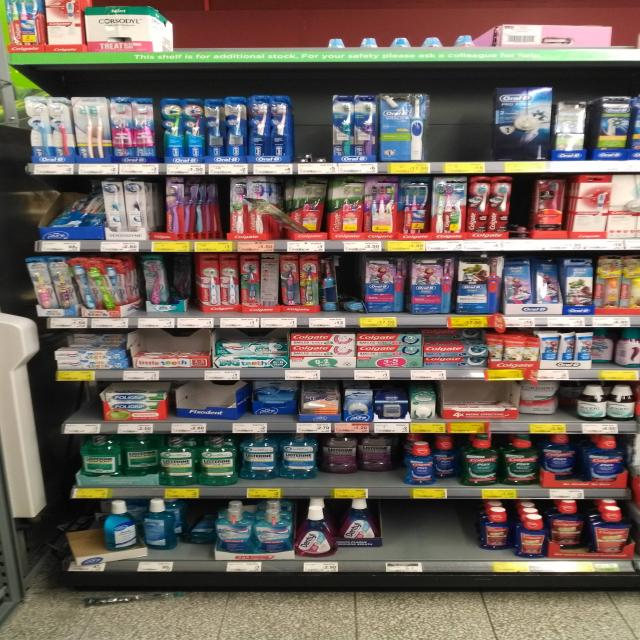void: (384, 500, 473, 559), (435, 80, 486, 157), (294, 88, 332, 164), (176, 381, 248, 417), (134, 332, 206, 366), (178, 501, 212, 558)
